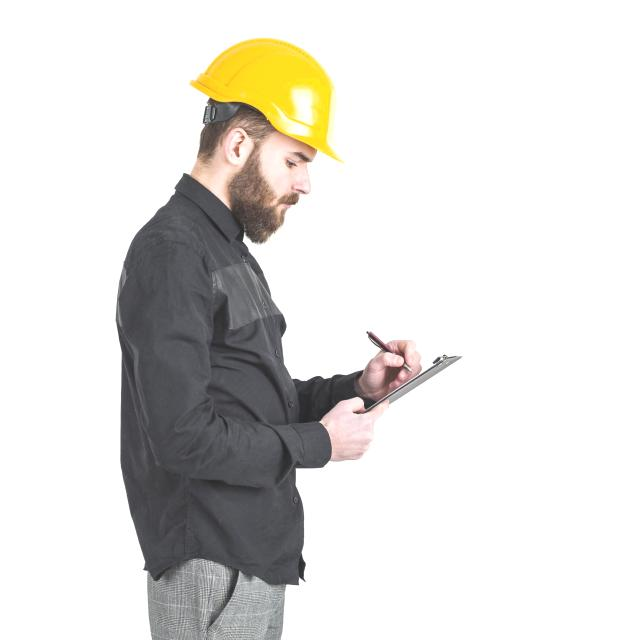face_nomask: (224, 133, 326, 239)
hand_noglove: (312, 389, 387, 488), (355, 326, 450, 403)
head_helmet: (192, 24, 357, 154)
person: (124, 1, 357, 634)
